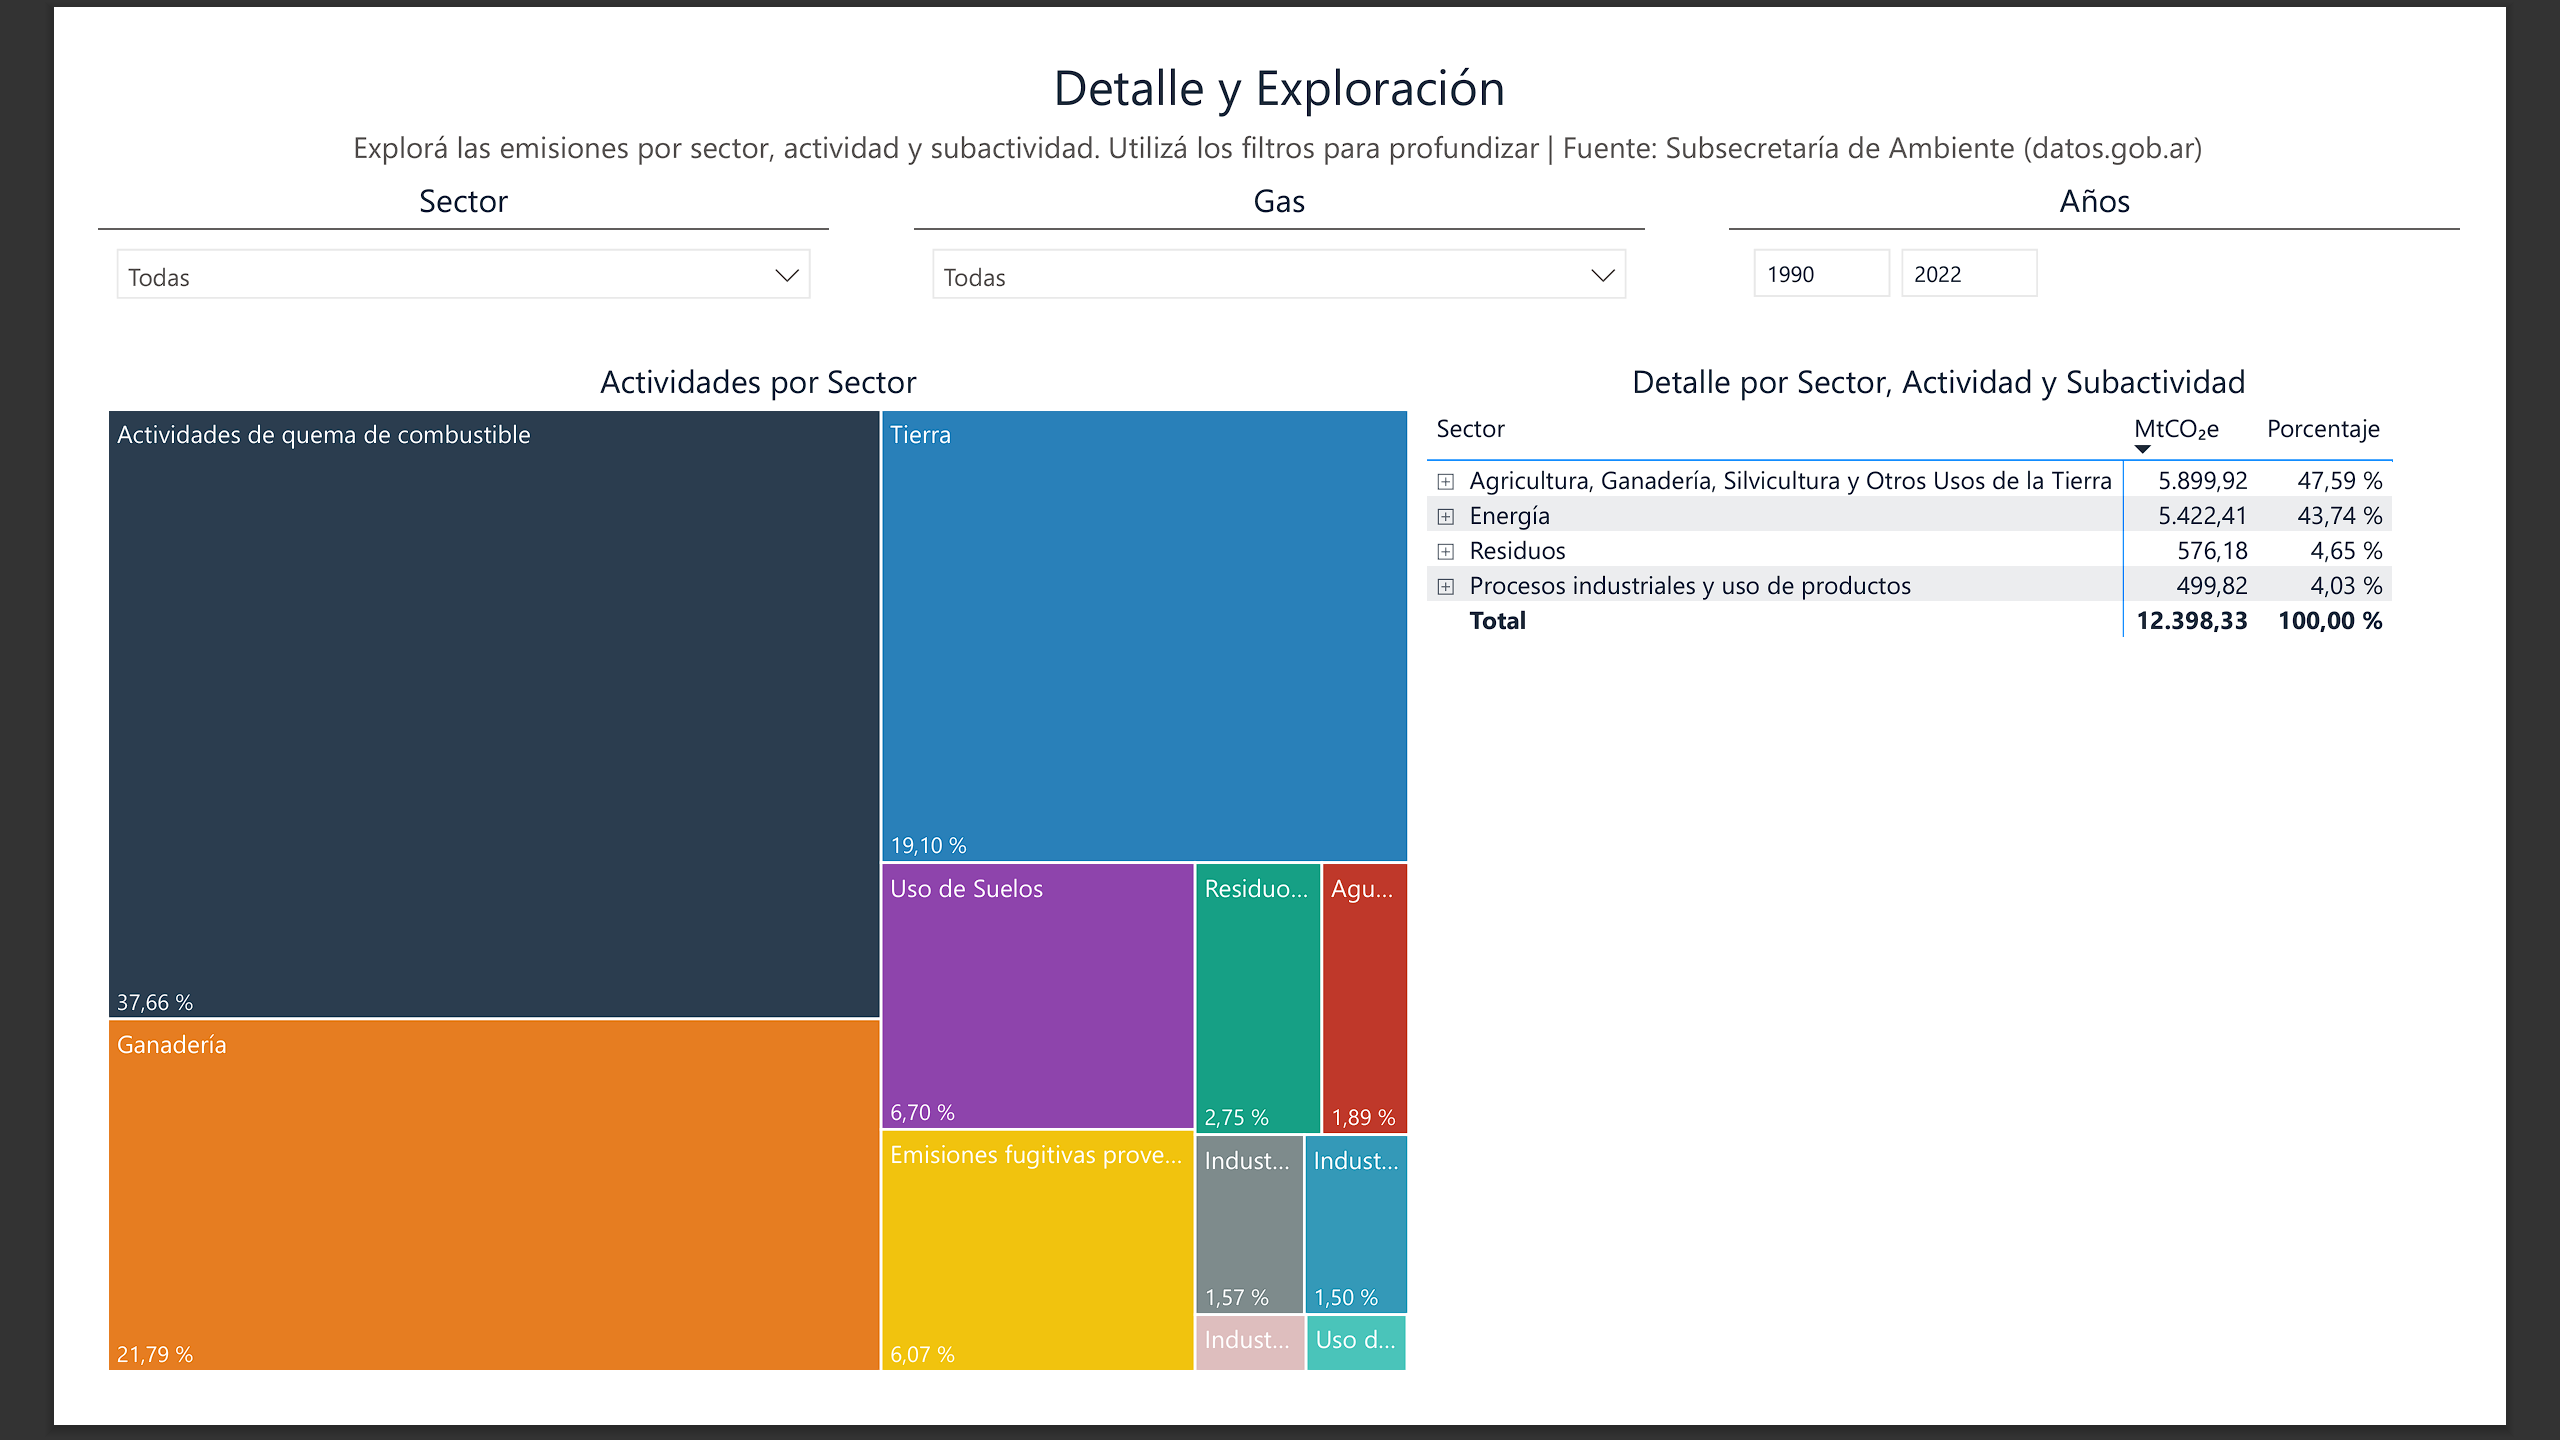

The dashboard page shown, as its layout file describes it:
{"tool":"powerbi","page":{"name":"Detalle y Exploración","canvas":[1280,720],"ordinal":2},"visuals":[{"type":"slicer","title":"Sector","fields":{"Values":["2- Sectores.sector"]},"box":[0,68.1,395.9,98.2],"z":0},{"type":"slicer","title":"Gas","fields":{"Values":["1- Gases.nombre_gas"]},"box":[441.7,68.1,395.9,98.2],"z":1000},{"type":"slicer","title":"Años","fields":{"Values":["5- Balance_anual.anio"]},"box":[884.1,68.1,395.9,98.2],"z":2000},{"type":"treemap","title":"Actividades por Sector","fields":{"Group":["3- Emisiones.actividad"],"Values":["3- Emisiones.% del Total"]},"box":[0,166.2,715.3,553.6],"z":3000},{"type":"pivotTable","title":"Detalle por Sector, Actividad y Subactividad","fields":{"Rows":["2- Sectores.sector","3- Emisiones.actividad","3- Emisiones.subactividad"],"Values":["Sum(3- Emisiones.valor_tco2e)","3- Emisiones.% del Total"]},"box":[715.3,166.2,564.7,553.6],"z":4000},{"type":"textbox","title":"Detalle y Exploración","box":[0,0,1280,68.1],"z":5000}]}

Visuals, with their boxes in screenshot pixels (x1, y1, x2, y2), scaled from the page's 1280x720 canvas onto the 2560x1440 screenshot:
"Sector" slicer: bbox(0, 136, 792, 333)
"Gas" slicer: bbox(883, 136, 1675, 333)
"Años" slicer: bbox(1768, 136, 2559, 333)
"Actividades por Sector" treemap: bbox(0, 332, 1431, 1439)
"Detalle por Sector, Actividad y Subactividad" pivotTable: bbox(1431, 332, 2559, 1439)
"Detalle y Exploración" textbox: bbox(0, 0, 2559, 136)
